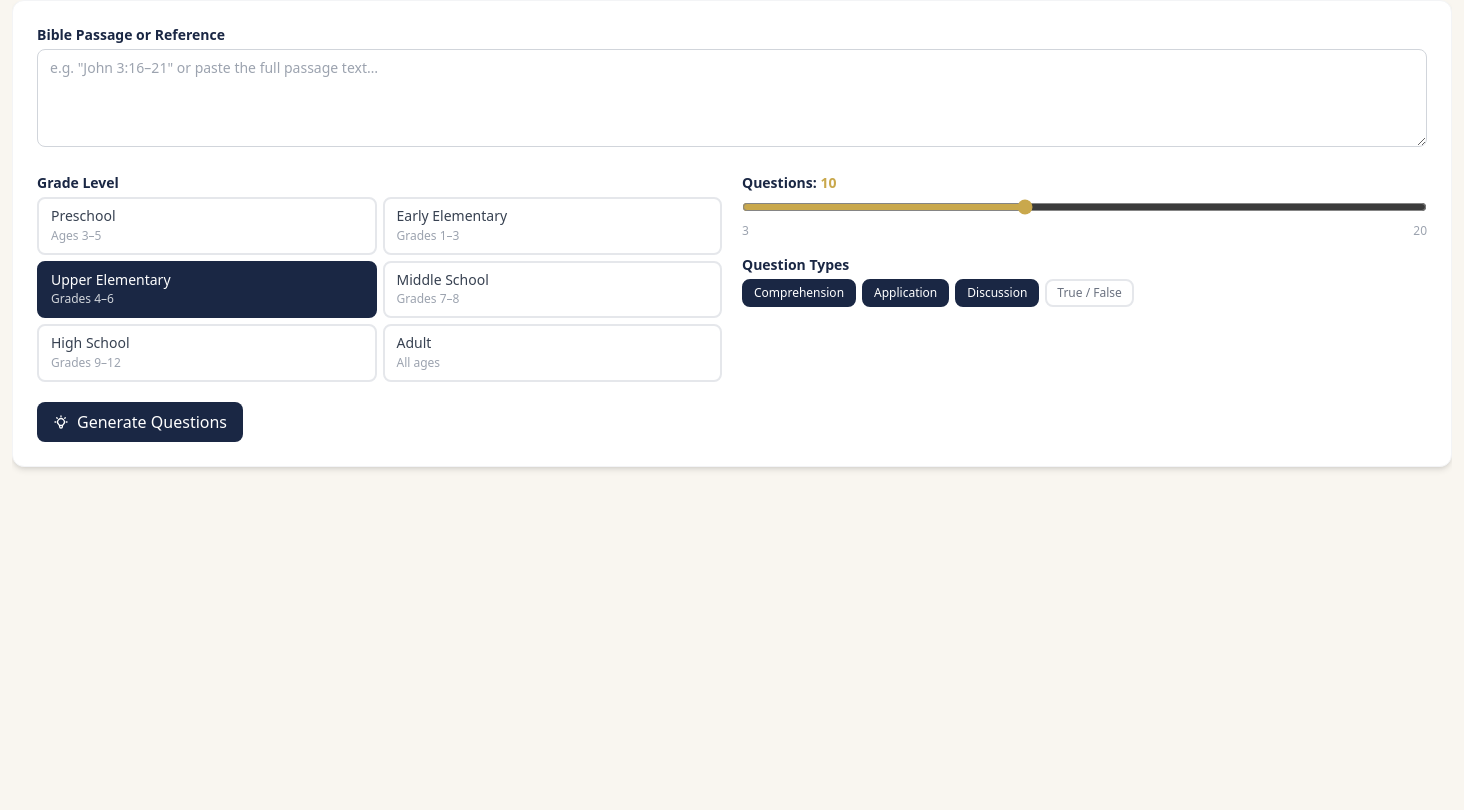
Test: QuestionGenerator › generates, shows the questions, and separately saves them to the library
The image size is (1464, 810).
Type "Genesis 6" into the text box with placeholder "e.g. \"John 3:16–21\" or paste the full passage text…" at (732, 98), box [37, 49, 1427, 147]
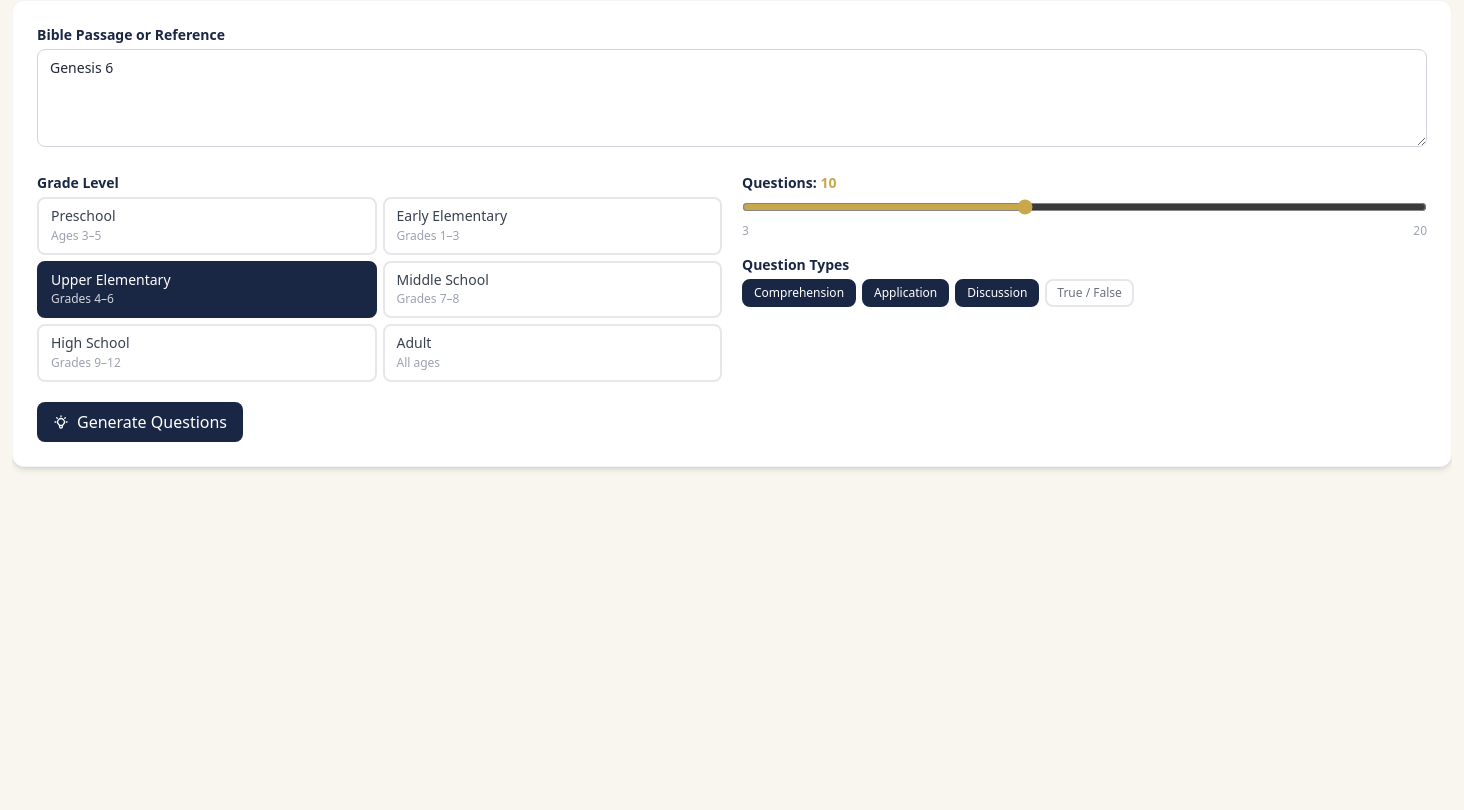
Click the button "Generate Questions" at (140, 422), box [37, 402, 243, 442]
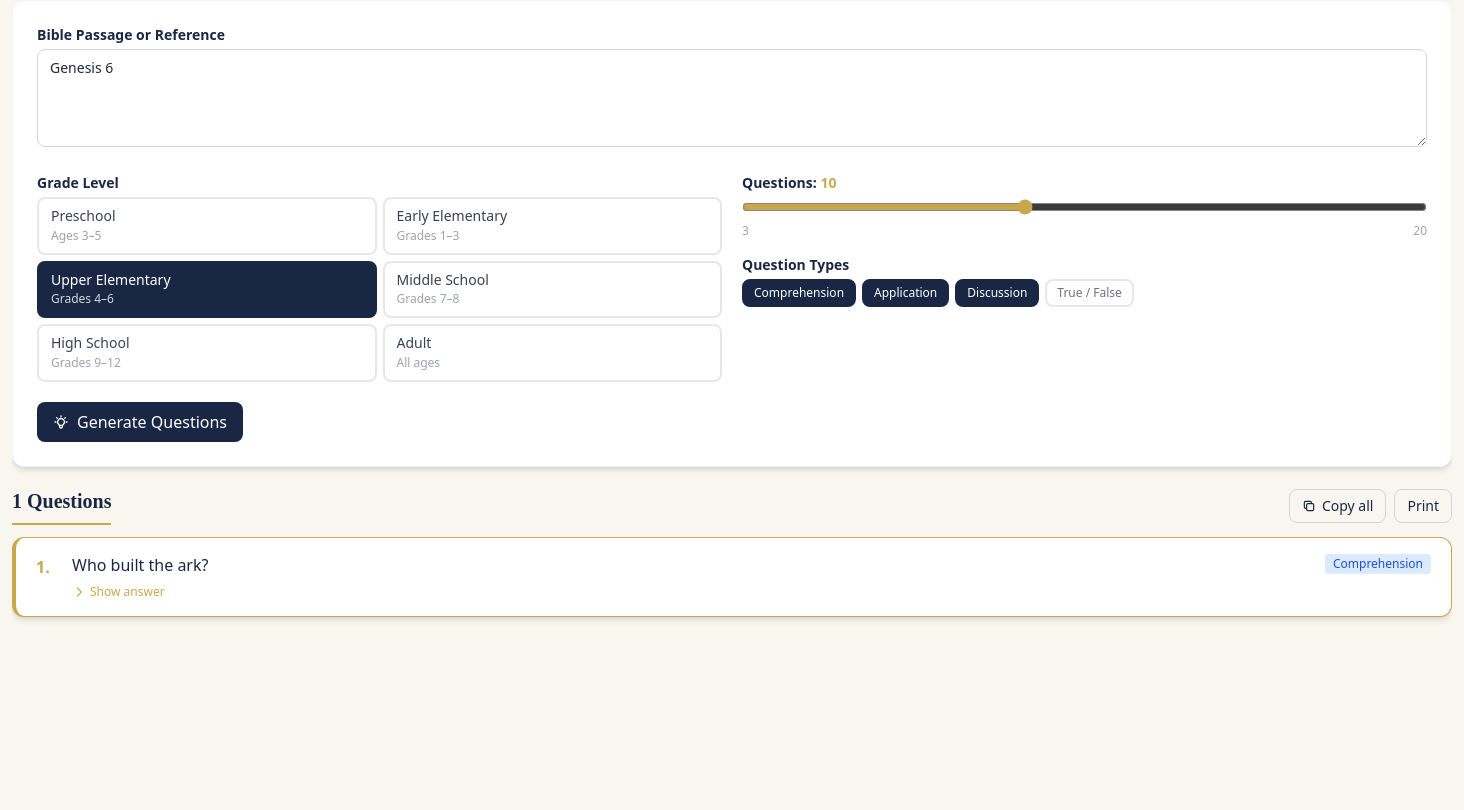
Check: the text "Who built the ark?" is shown, box [72, 554, 208, 576]
Check: the heading "1 Questions" is shown, box [12, 486, 112, 524]
